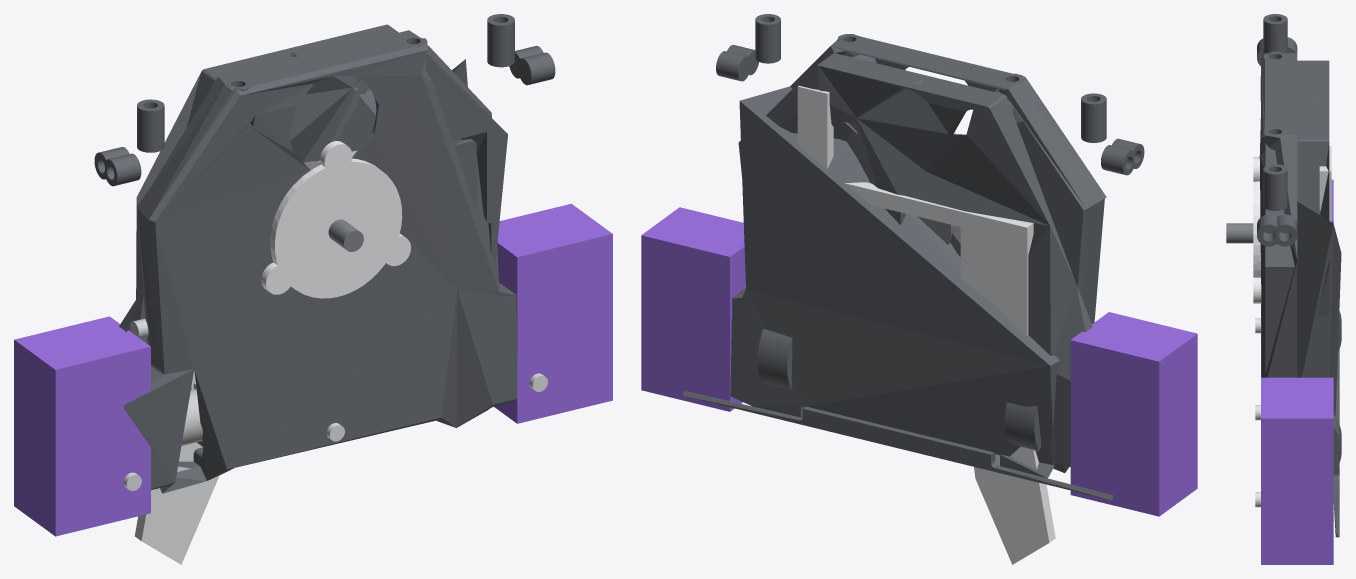
The model's file is th_under_er.glb.
3 views of the same model, side by side, from view 1: azimuth 30°, elevation 25°; view 2: azimuth 150°, elevation 25°; view 3: azimuth 270°, elevation 25° (orthographic). The views are drawn at different scales.
Visible parts, largest first — view 1: chassis_top, pod_l, pod_r, hub_disc, chassis_bottom, weapon, weapon_motor, dt_hub_wheel_r; view 2: chassis_bottom, pod_l, chassis_top, pod_r, weapon, wheel_l, wheel_r; view 3: pod_r, chassis_top, chassis_bottom, hub_disc, weapon_motor, weapon, wheel_l, hub_boss2, hub_boss0.
Boxes of the visible parts, <box> form: chassis_top: <box>94,14,555,493</box>; pod_l: <box>14,316,150,536</box>; pod_r: <box>494,203,612,423</box>; hub_disc: <box>270,158,402,298</box>; chassis_bottom: <box>119,24,467,468</box>; weapon: <box>135,161,320,564</box>; weapon_motor: <box>304,161,363,251</box>; dt_hub_wheel_r: <box>181,389,202,445</box>; chassis_bottom: <box>682,53,1113,500</box>; pod_l: <box>1070,312,1197,516</box>; chassis_top: <box>716,14,1144,472</box>; pod_r: <box>641,207,745,411</box>; weapon: <box>797,85,1055,564</box>; wheel_l: <box>757,329,792,389</box>; wheel_r: <box>1004,402,1041,451</box>; pod_r: <box>1261,377,1333,564</box>; chassis_top: <box>1257,14,1297,377</box>; chassis_bottom: <box>1297,60,1341,537</box>; hub_disc: <box>1253,181,1260,277</box>; weapon_motor: <box>1226,223,1253,243</box>; weapon: <box>1319,146,1331,221</box>; wheel_l: <box>1333,414,1341,473</box>; hub_boss2: <box>1253,277,1261,303</box>; hub_boss0: <box>1253,157,1259,181</box>.
Bounding box in the file's own units: 140 × 118 × 28.6.
